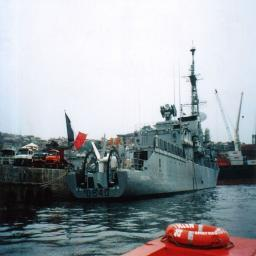Fragata: (63, 41, 222, 204)
